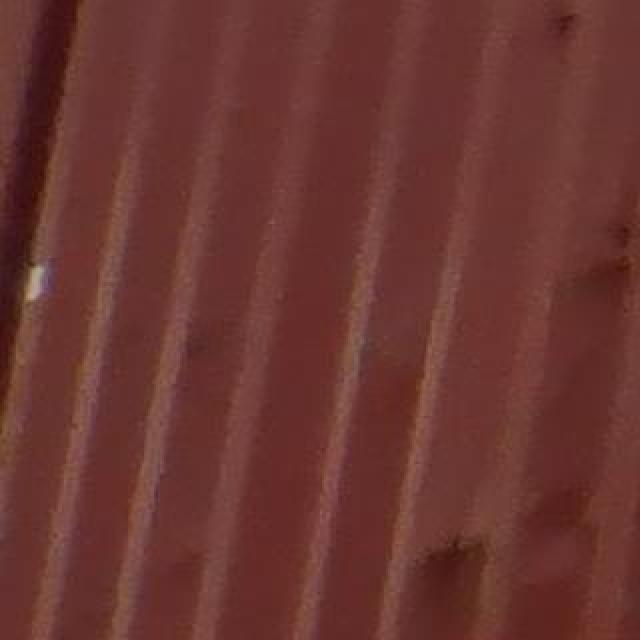Dent: (407, 497, 607, 605)
